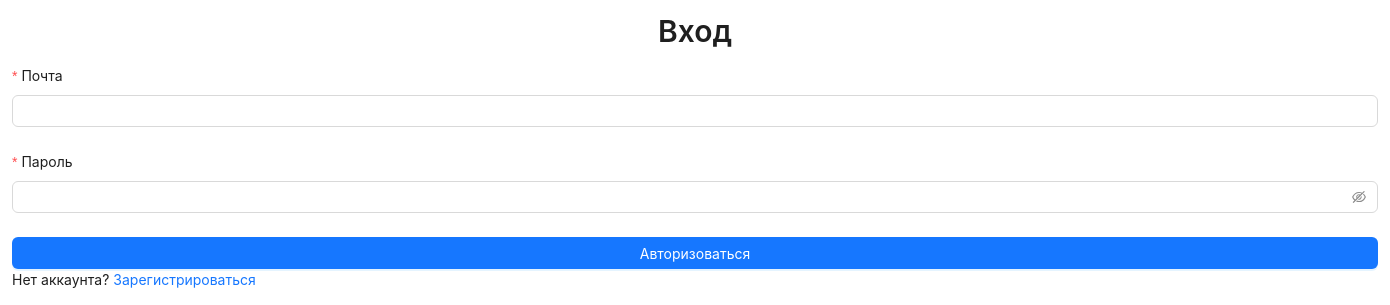
LoginForm › validates required fields
Click the button "Авторизоваться" at (695, 253), box [12, 237, 1378, 269]
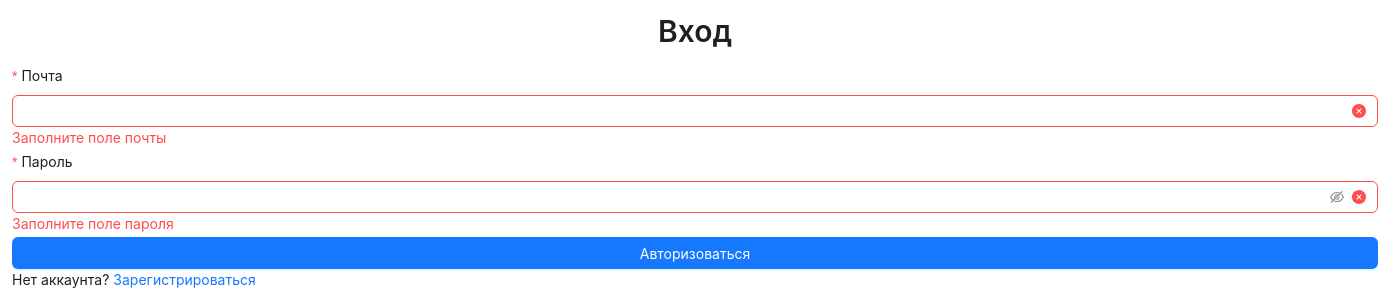
Check: the text "Заполните поле почты" is shown, box [12, 129, 166, 146]
Check: the text "Заполните поле пароля" is shown, box [12, 215, 174, 232]
